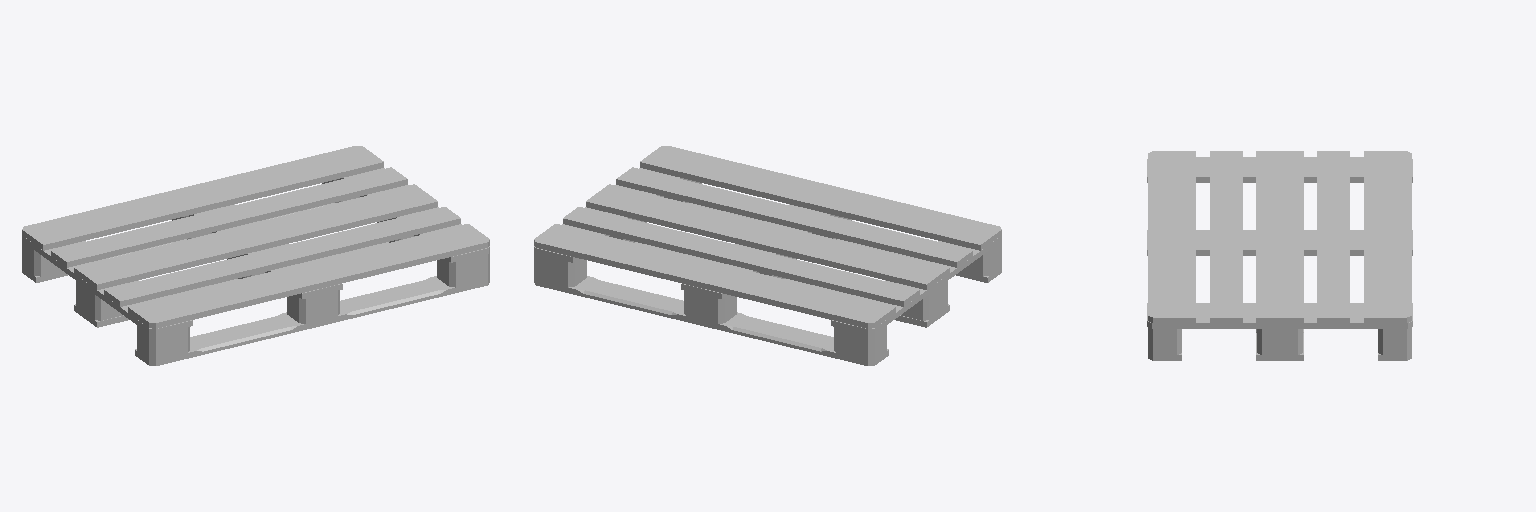
Rendered from platform.obj.
The picture shows the model from 3 angles: view 1: azimuth 30°, elevation 25°; view 2: azimuth 150°, elevation 25°; view 3: azimuth 270°, elevation 25°; orthographic projection.
Parts seen in each view (by area): view 1: epal; view 2: epal; view 3: epal.
Boxes of the visible parts, box(x1,y1,x2,y2) form: epal: box(22, 146, 489, 365); epal: box(534, 146, 1001, 365); epal: box(1147, 151, 1412, 360).
Size of the model in its own units: 1.73 by 0.2098 by 1.17.